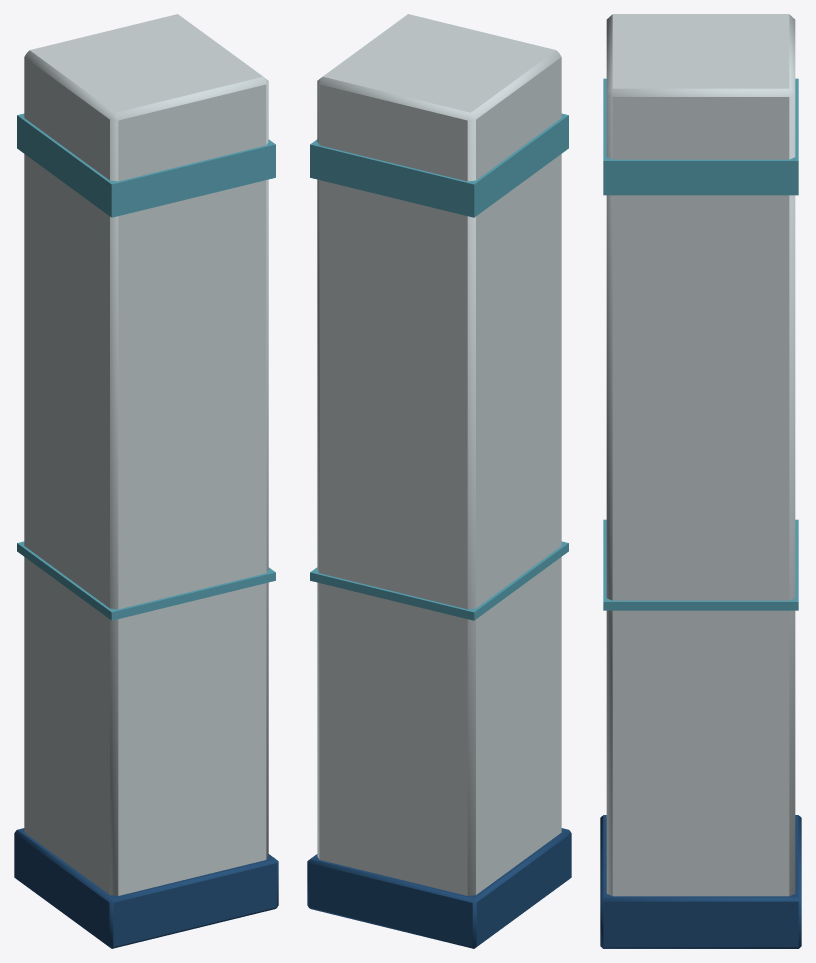
The model's file is tile_pillar.glb.
3 renders of one model, left to right at view 1: azimuth 30°, elevation 25°; view 2: azimuth 150°, elevation 25°; view 3: azimuth 270°, elevation 25°, orthographic. The views are drawn at different scales.
Parts seen in each view (by area): view 1: TilePillar; view 2: TilePillar; view 3: TilePillar.
Boxes of the visible parts, bbox=[...] form: TilePillar: bbox=[14, 14, 278, 948]; TilePillar: bbox=[307, 14, 571, 948]; TilePillar: bbox=[600, 14, 801, 948].
Bounding box in the file's own units: 0.64 × 3 × 0.64.
